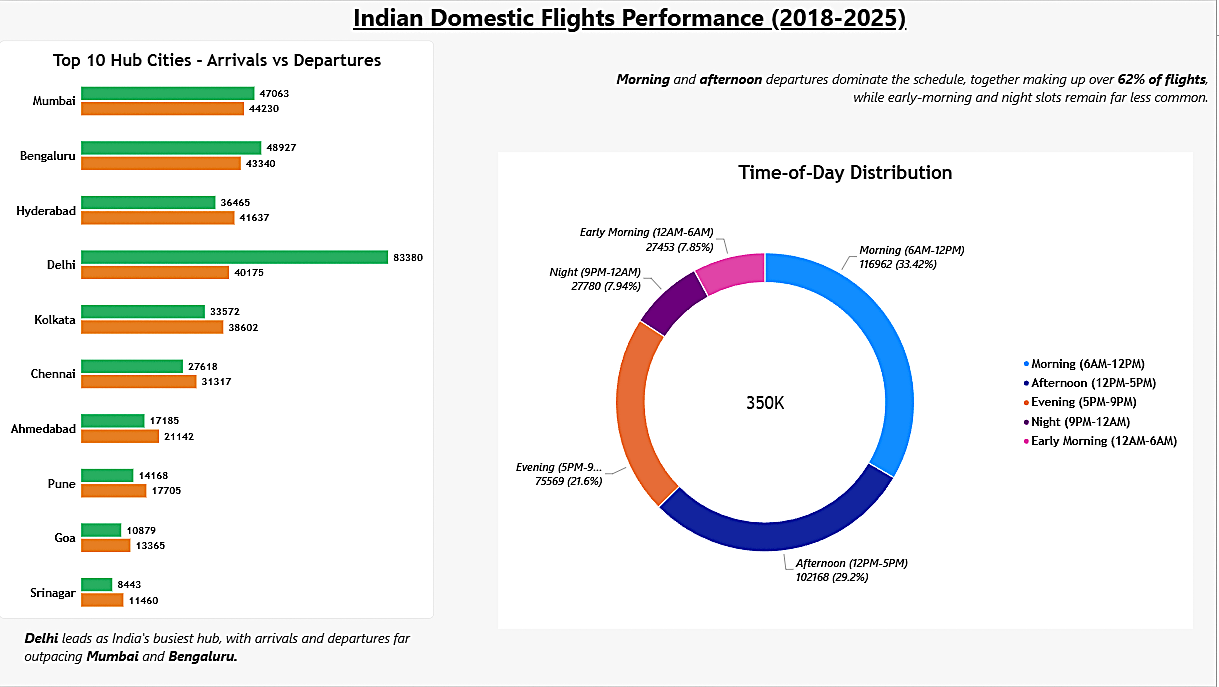

What the dashboard file says about the page in this screenshot:
{"tool":"powerbi","page":{"name":"City & Timing Distribution","canvas":[1920,1080],"ordinal":2},"visuals":[{"type":"textbox","box":[558.3,0,885.7,62.5],"z":0},{"type":"clusteredBarChart","title":"Top 10 Hub Cities - Arrivals vs Departures","fields":{"Category":["Cities.city"],"Y":["Cities.Arrivals","Cities.Departures"]},"box":[0,62,686,912],"z":1000},{"type":"donutChart","title":"Time-of-Day Distribution","fields":{"Y":["flights.Flight Day Occurrences"],"Category":["flights.DepartureTimeSlot"]},"box":[786.4,237.6,1095.8,751.3],"z":2000},{"type":"textbox","box":[39.7,989.8,668.1,75.7],"z":3000},{"type":"textbox","box":[960.5,108.5,946.2,65.5],"z":4000}]}

Visuals, with their boxes in screenshot pixels (x1, y1, x2, y2), scaled from the page's 1920x1080 canvas onto the 1219x687 screenshot:
textbox: bbox=(354, 0, 917, 40)
"Top 10 Hub Cities - Arrivals vs Departures" clusteredBarChart: bbox=(0, 39, 436, 620)
"Time-of-Day Distribution" donutChart: bbox=(499, 151, 1195, 629)
textbox: bbox=(25, 630, 449, 678)
textbox: bbox=(610, 69, 1211, 111)
